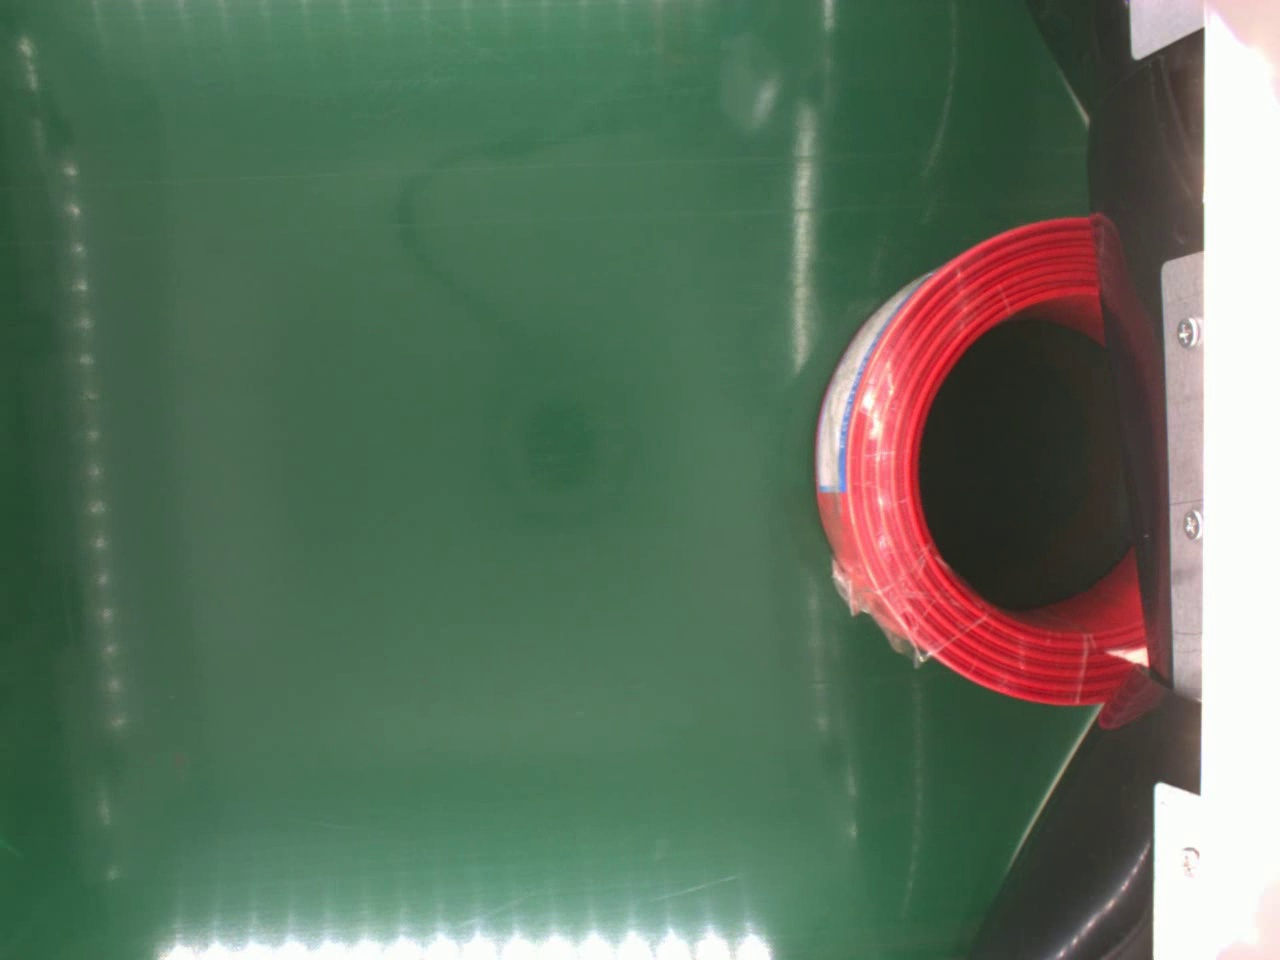red: (809, 214, 1146, 708)
